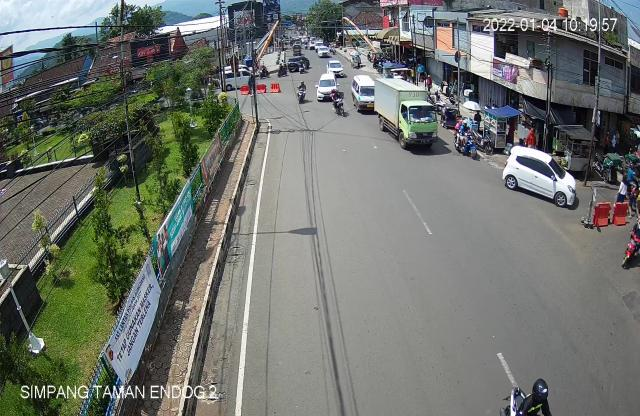Mobil: (502, 144, 581, 210), (353, 68, 375, 115), (314, 68, 339, 102)
Motor: (453, 117, 483, 164), (328, 86, 350, 119), (295, 80, 307, 109)
Truk: (372, 73, 440, 155)
